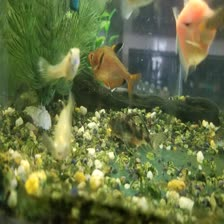Guppy: (46, 90, 78, 160), (32, 41, 78, 87)
Kiros: (99, 108, 170, 152)
Plano: (171, 0, 223, 79)
Transparente: (84, 38, 144, 101)
